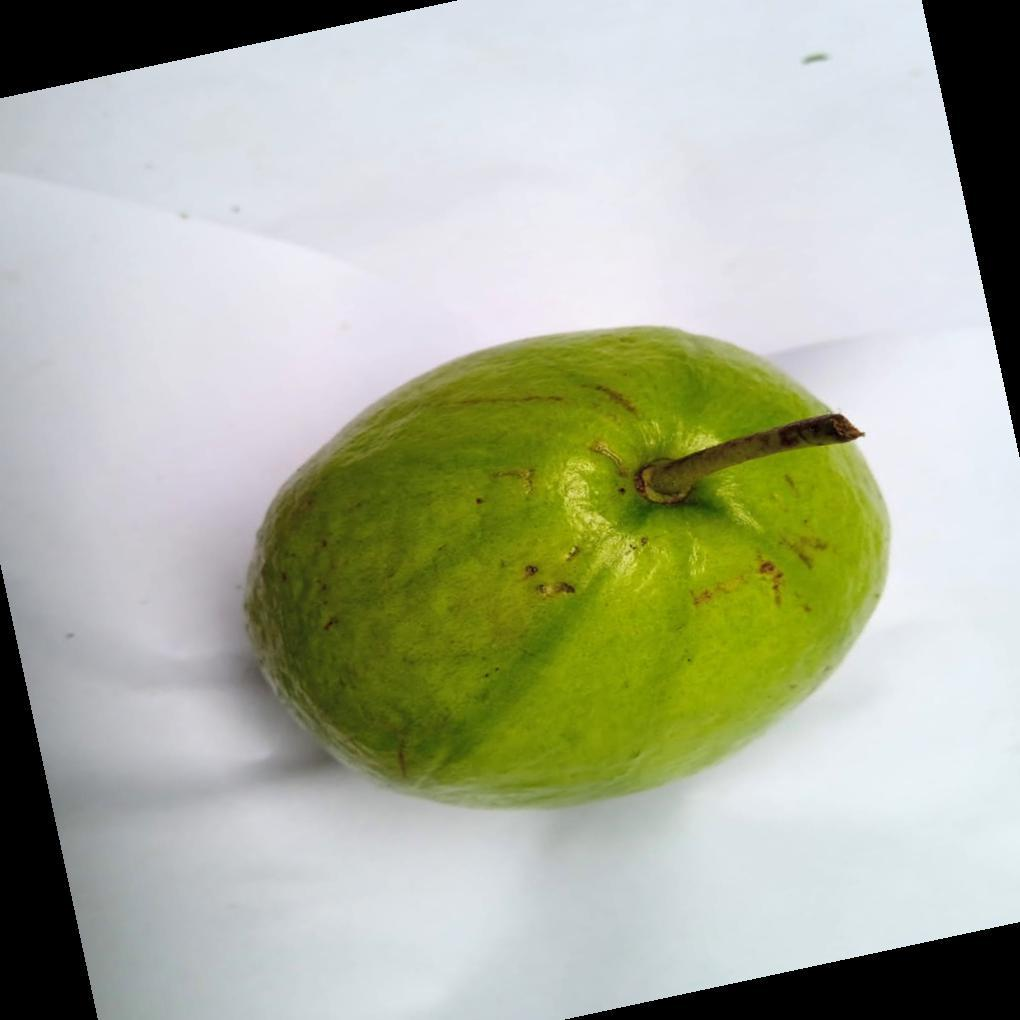FreshGuava: (241, 328, 892, 814)
